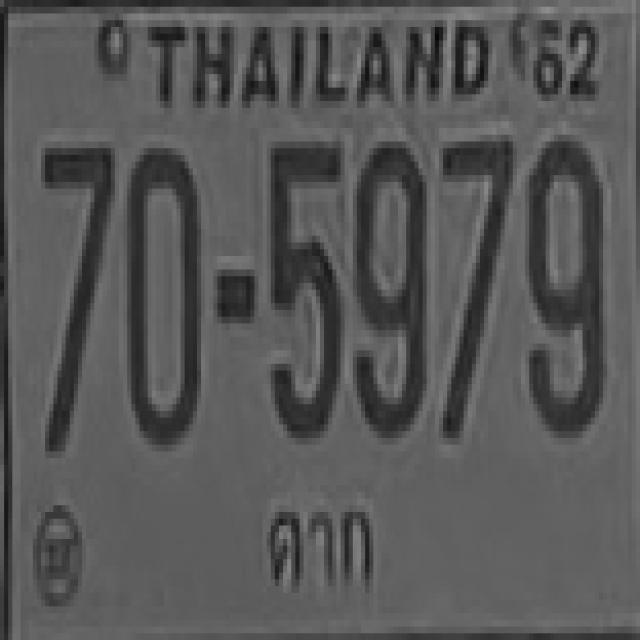0: (123, 145, 197, 441)
5: (266, 138, 341, 435)
7: (39, 142, 113, 452), (439, 132, 513, 434), (41, 142, 111, 357)
9: (525, 135, 603, 431), (353, 135, 422, 431)
Tak: (252, 476, 381, 599)
